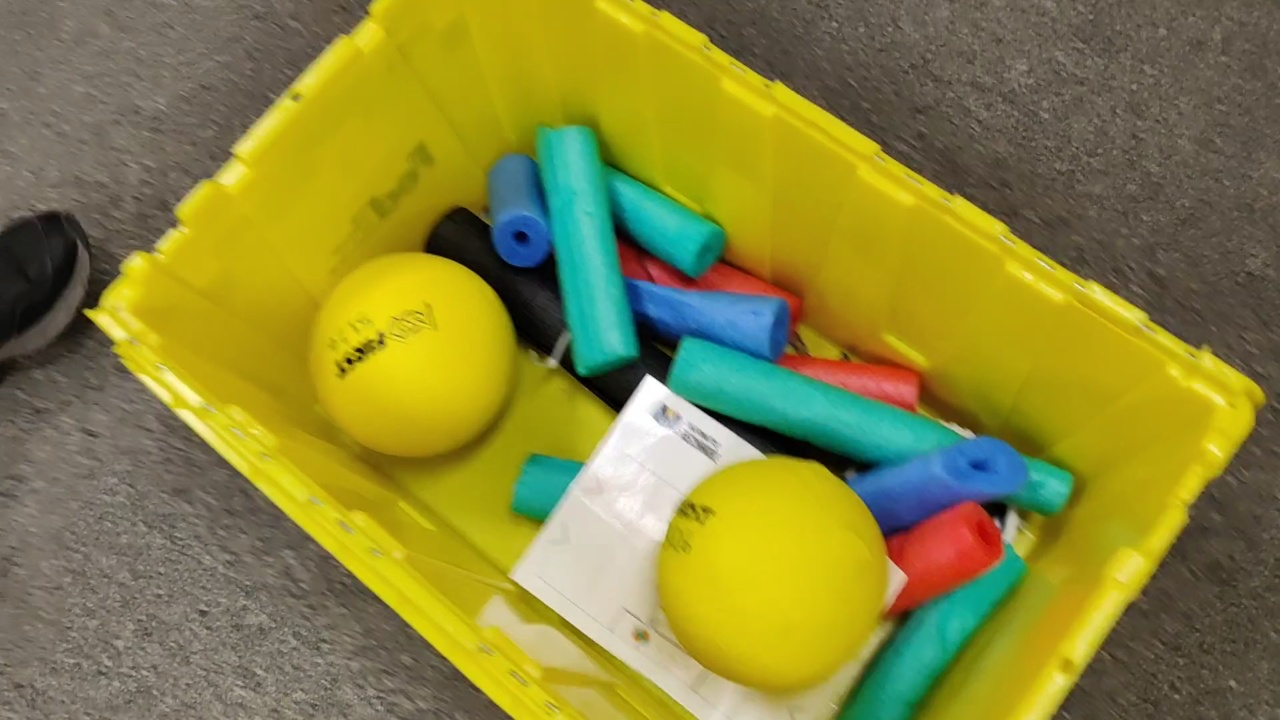Ball: (658, 455, 890, 690), (311, 252, 519, 459)
